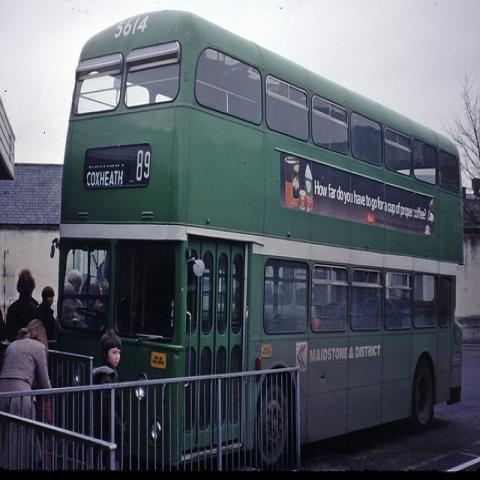bus: (50, 11, 467, 472)
